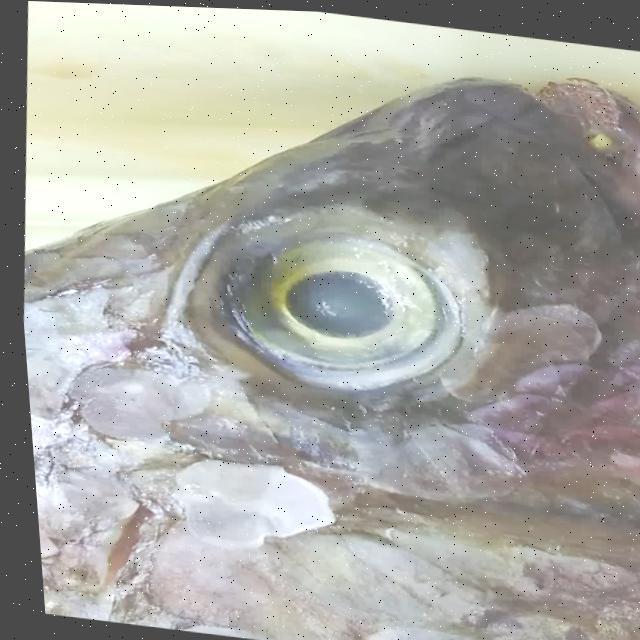Non-Fresh: (166, 171, 496, 419)
